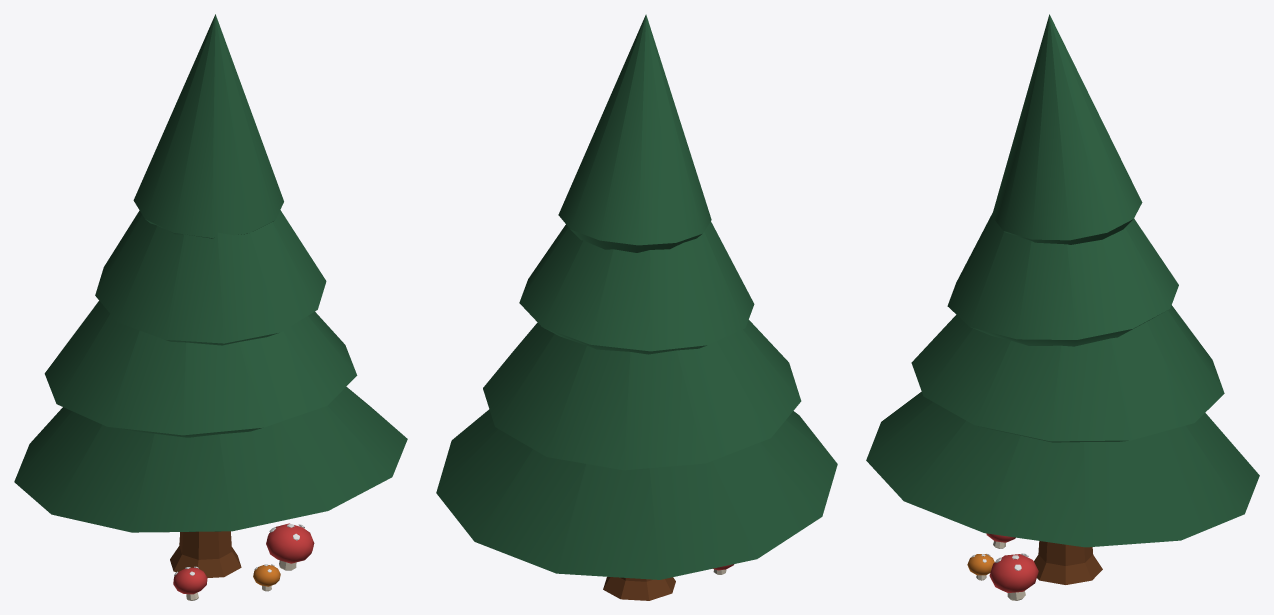
The model's file is p_tree_pine_dense_2.glb.
The picture shows the model from 3 angles, left to right: view 1: azimuth 30°, elevation 25°; view 2: azimuth 150°, elevation 25°; view 3: azimuth 270°, elevation 25°; orthographic projection.
Parts seen in each view (by area): view 1: body; view 2: body; view 3: body.
Part boxes in pixels (left/top/right/bottom): body: left=14, top=14, right=407, bottom=600; body: left=436, top=14, right=837, bottom=600; body: left=866, top=14, right=1259, bottom=600.
Size of the model in its own units: 4.46 by 6.93 by 4.44.
